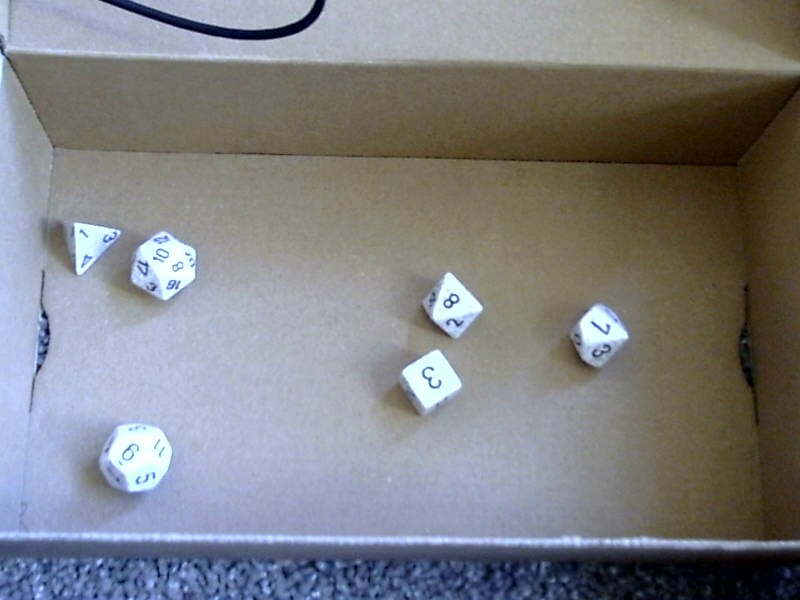d10 7: (566, 294, 633, 378)
d12 6: (93, 416, 177, 502)
d20 10: (124, 226, 203, 304)
d4 1: (53, 212, 120, 278)
d6 3: (394, 350, 464, 415)
d8 8: (413, 261, 486, 342)
